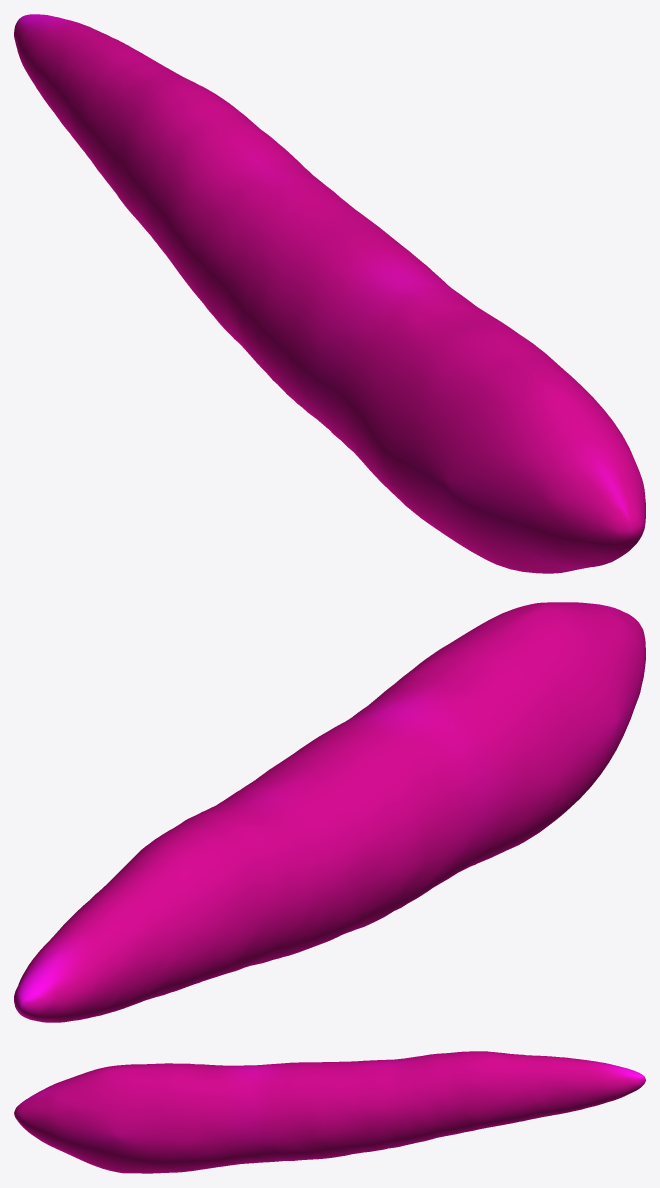
File: PlayerBullet.fbx
The picture shows the model from 3 angles, top to bottom: view 1: azimuth 30°, elevation 25°; view 2: azimuth 150°, elevation 25°; view 3: azimuth 270°, elevation 25°; orthographic projection. The views are drawn at different scales.
Visible parts, largest first — view 1: PlayerBullet; view 2: PlayerBullet; view 3: PlayerBullet.
Boxes of the visible parts, x1,y1,x2,y2 form: PlayerBullet: (14,14,645,573); PlayerBullet: (14,602,645,1022); PlayerBullet: (14,1051,645,1173).
Bounding box in the file's own units: 264 × 316 × 1569.
Materials: 1 (1 with a texture image).
